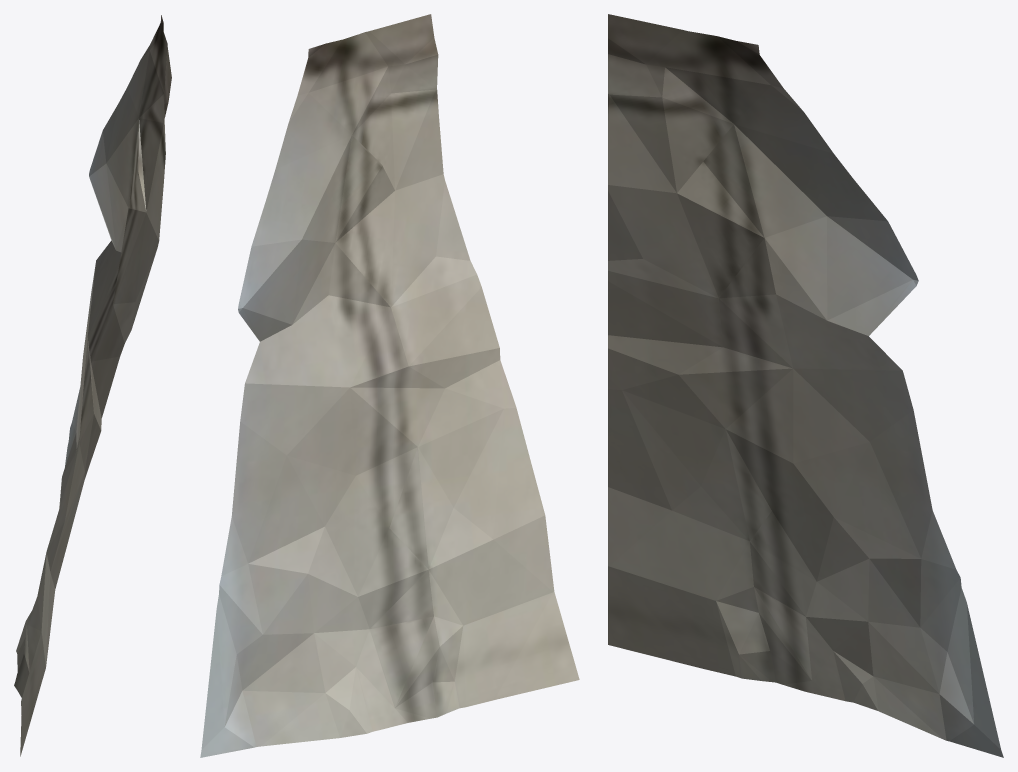
The picture shows the model from 3 angles, left to right: view 1: azimuth 30°, elevation 25°; view 2: azimuth 150°, elevation 25°; view 3: azimuth 270°, elevation 25°; orthographic projection. The views are drawn at different scales.
Size of the model in its own units: 0.5694 by 1.67 by 0.8428.
1 material, 1 textured.
